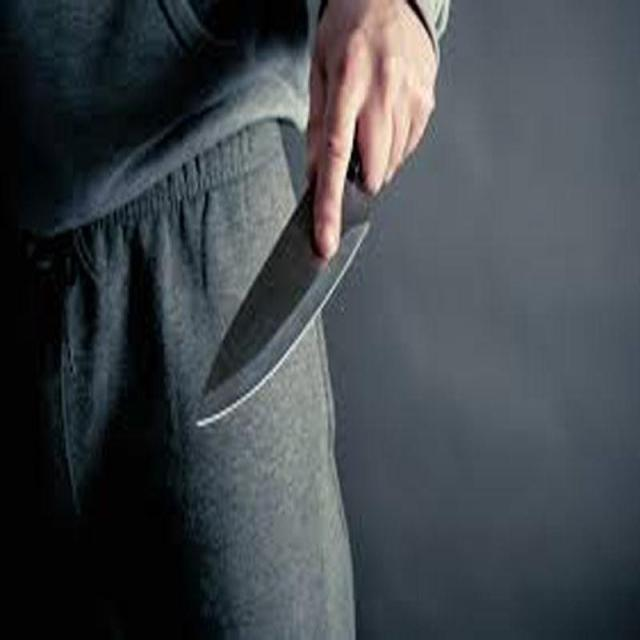Knife: (200, 133, 370, 422)
Person: (0, 0, 455, 640)
